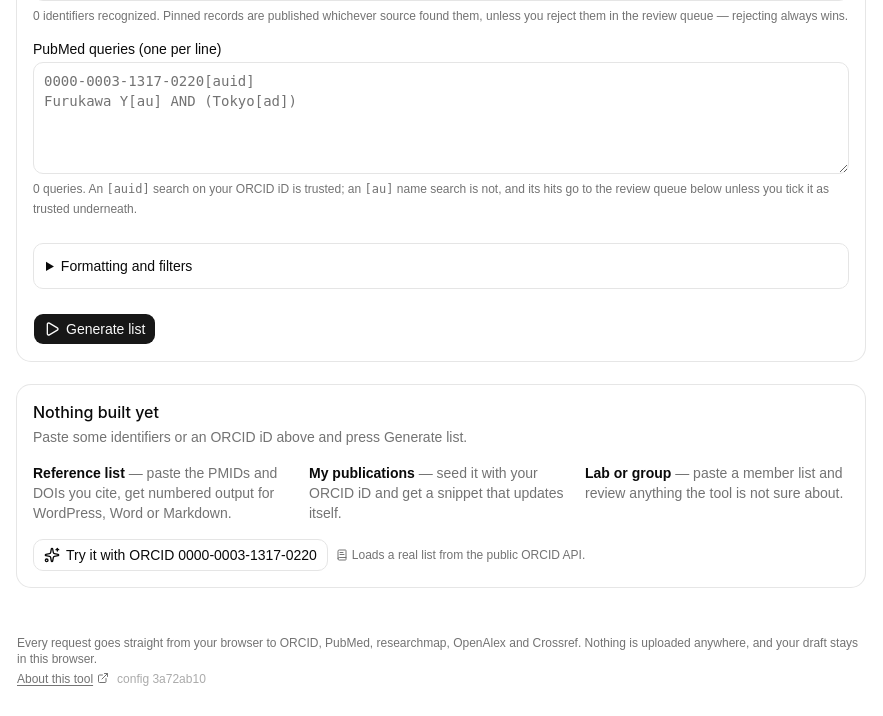
Test: a record that cannot be referenced › has a disabled control that says why
(page scrolled)
Click the button "Generate list" at (95, 329), box left=33, top=313, right=156, bottom=345
(page scrolled)
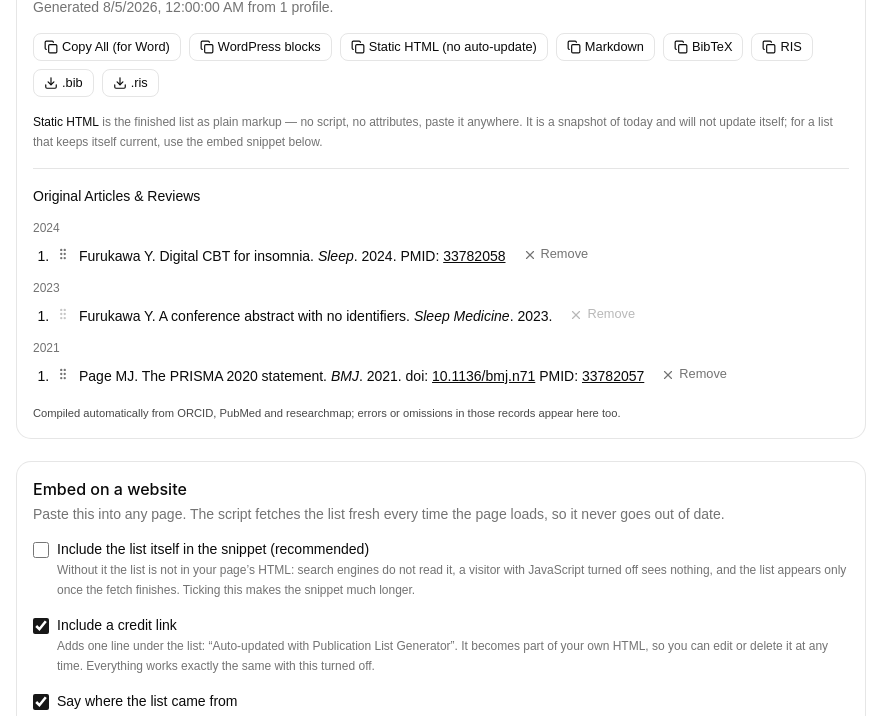
Check: the button "Remove" in the row of "Sleep Medicine" is disabled, box left=558, top=301, right=646, bottom=329
